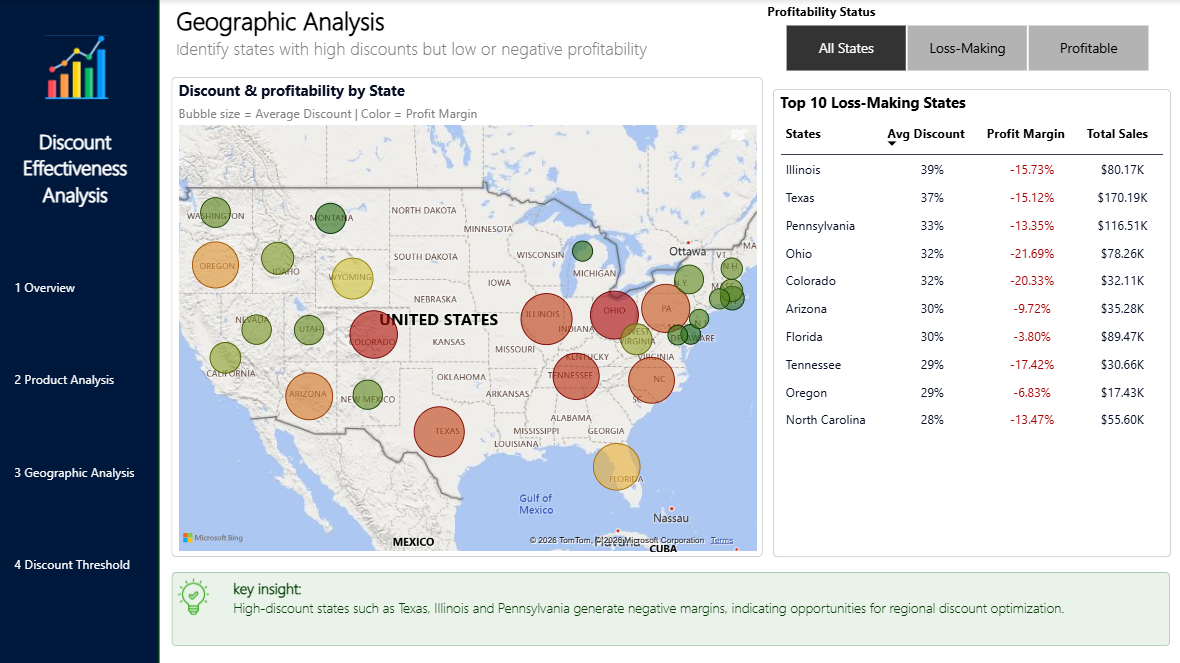

What the dashboard file says about the page in this screenshot:
{"tool":"powerbi","page":{"name":" Geographic Analysis","canvas":[1280,720],"ordinal":2},"visuals":[{"type":"shape","box":[0,0,176.4,808.3],"z":0,"group":"g1"},{"type":"textbox","box":[189.4,0,649.3,84.2],"z":0},{"type":"actionButton","title":"4 Discount Threshold","box":[0,268.4,176.2,83.4],"z":1000,"group":"g1"},{"type":"tableEx","title":"Top 10 Loss-Making States","fields":{"Values":["DIM_location.State","Avg(Fact_Sales.Discount)","Measures_Table.profit margin","Sum(Fact_Sales.Sales)"]},"box":[838.8,97.2,429.1,505.2],"z":2000},{"type":"actionButton","title":"3 Geographic Analysis","box":[0.6,369,176.4,82.6],"z":2000,"group":"g1"},{"type":"map","title":"Discount & profitability by State","fields":{"Category":["DIM_location.State"],"Size":["Avg(Fact_Sales.Discount)"]},"box":[189.4,84.2,638,518.2],"z":3000},{"type":"actionButton","title":"2 Product Analysis","box":[0.6,468.9,176.4,82.6],"z":3000,"group":"g1"},{"type":"slicer","title":"Profitability Status","fields":{"Values":["Profitability Status.Status"]},"box":[827.4,3.2,440.4,81],"z":4000},{"type":"actionButton","title":"1 Overview","box":[0.6,568.8,176.4,82.6],"z":4000,"group":"g1"},{"type":"textbox","box":[15.2,132.8,141.6,111.8],"z":5000,"group":"g1"},{"type":"group","id":"g1","title":"Sidebar Panel","box":[0,0,177,808.3],"z":6000},{"type":"actionButton","box":[41.7,35,90,76.7],"z":7000},{"type":"group","id":"g2","title":"insight bar","box":[189.2,618.8,1078,80],"z":8000},{"type":"shape","box":[189.2,618.8,1078,80],"z":13500,"group":"g2"},{"type":"actionButton","box":[189.3,621.5,52.9,47.5],"z":14000,"group":"g2"},{"type":"textbox","box":[251,619.9,1013,77],"z":14500,"group":"g2"}]}

Visuals, with their boxes on the page's 1280x720 design canvas (x1, y1, x2, y2). These are canvas units, not pixel positions in the 1180x663 screenshot, which may show the page scaled, cropped or inside an application window:
shape: bbox=[0, 0, 176, 808]
textbox: bbox=[189, 0, 839, 84]
"4 Discount Threshold" actionButton: bbox=[0, 268, 176, 352]
"Top 10 Loss-Making States" tableEx: bbox=[839, 97, 1268, 602]
"3 Geographic Analysis" actionButton: bbox=[1, 369, 177, 452]
"Discount & profitability by State" map: bbox=[189, 84, 827, 602]
"2 Product Analysis" actionButton: bbox=[1, 469, 177, 552]
"Profitability Status" slicer: bbox=[827, 3, 1268, 84]
"1 Overview" actionButton: bbox=[1, 569, 177, 651]
textbox: bbox=[15, 133, 157, 245]
"Sidebar Panel" group: bbox=[0, 0, 177, 808]
actionButton: bbox=[42, 35, 132, 112]
"insight bar" group: bbox=[189, 619, 1267, 699]
shape: bbox=[189, 619, 1267, 699]
actionButton: bbox=[189, 622, 242, 669]
textbox: bbox=[251, 620, 1264, 697]
